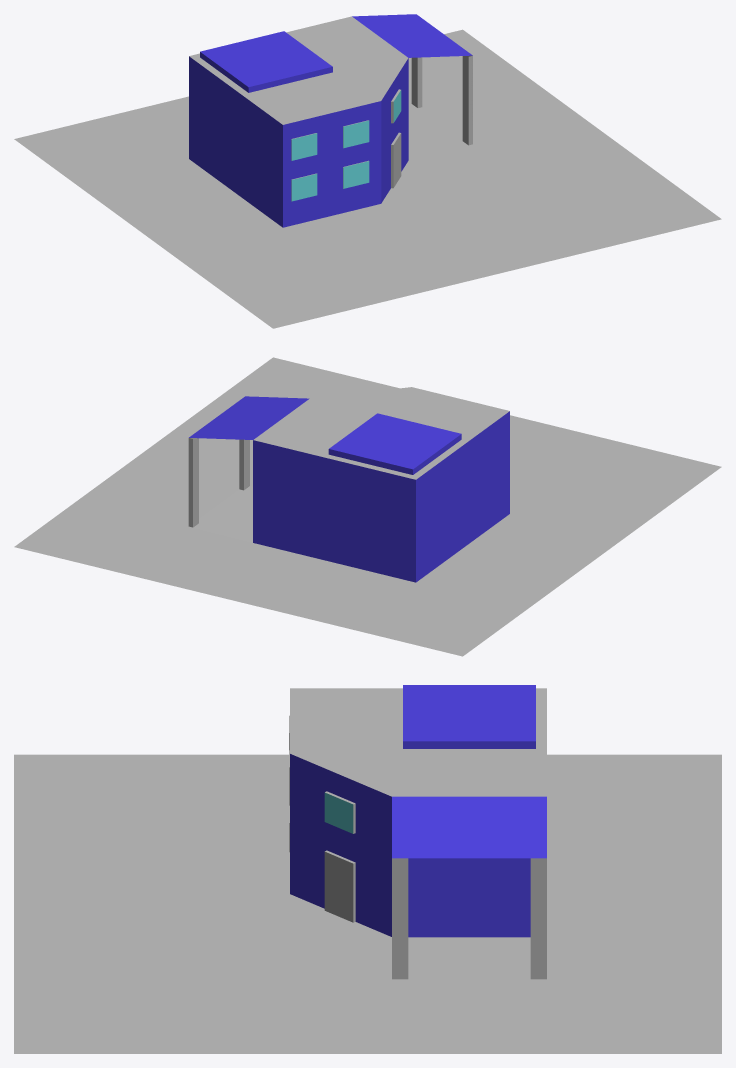
File: Commercial1.fbx
The picture shows the model from 3 angles, top to bottom: view 1: azimuth 30°, elevation 25°; view 2: azimuth 150°, elevation 25°; view 3: azimuth 270°, elevation 25°; orthographic projection. The views are drawn at different scales.
Visible parts, largest first — view 1: Cube.006; view 2: Cube.006; view 3: Cube.006.
Boxes of the visible parts, x1=… form: Cube.006: x1=14, y1=14, x2=721, y2=328; Cube.006: x1=14, y1=357, x2=721, y2=656; Cube.006: x1=14, y1=685, x2=721, y2=1053.
Bounding box in the file's own units: 5000 × 1156 × 5000.
